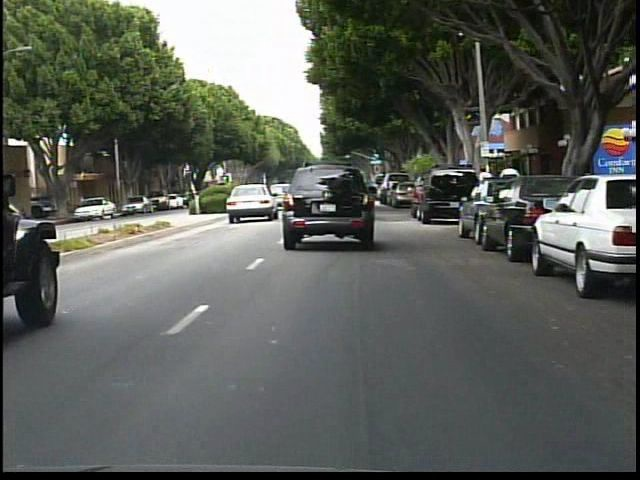person: (497, 159, 521, 214), (475, 164, 496, 210), (73, 190, 91, 221)
